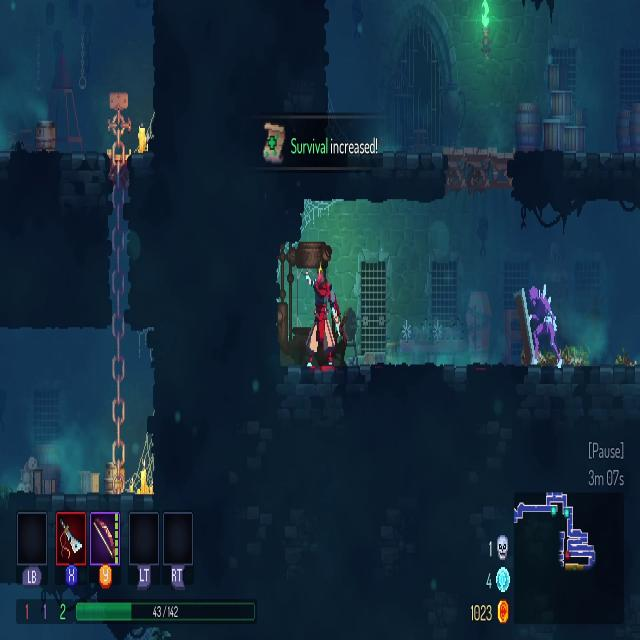agents: (309, 268, 340, 373)
enemy_purple_shield: (518, 282, 558, 367)
wood_floor: (441, 144, 514, 195)
